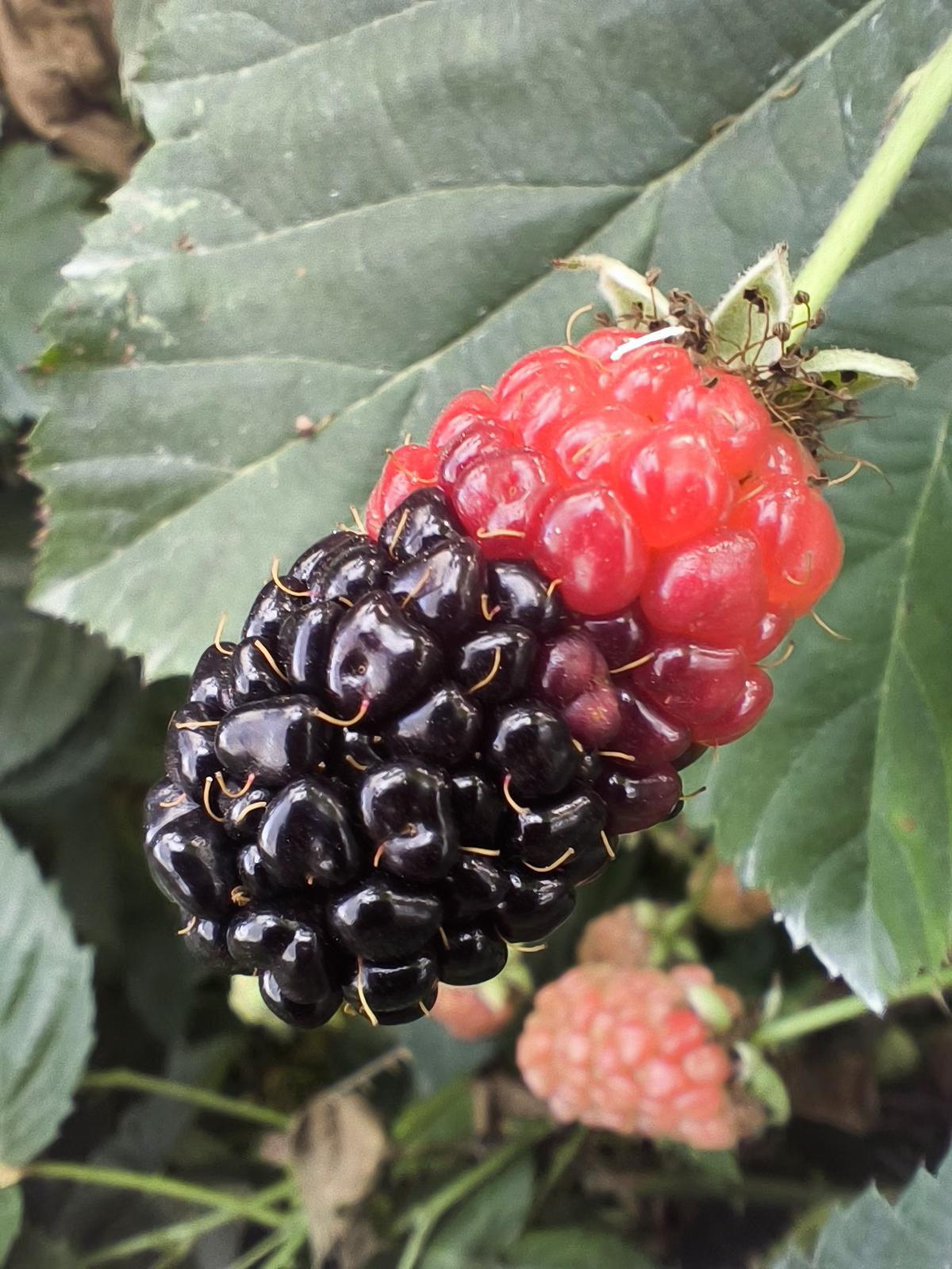marron: (155, 328, 830, 1022)
naranja: (515, 964, 748, 1148)
